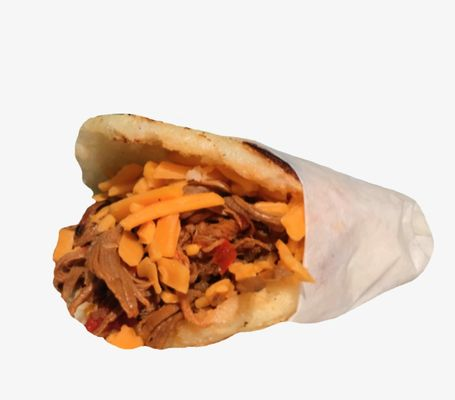soup: (52, 111, 315, 350)
